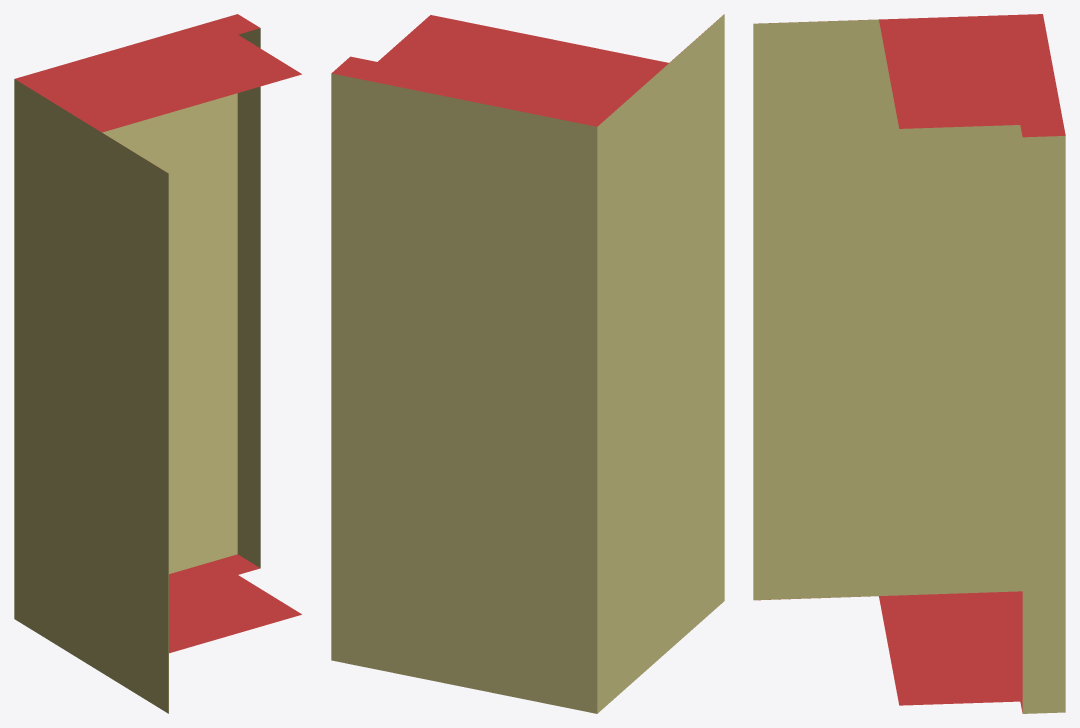
3 renders of one model, left to right at view 1: azimuth 30°, elevation 25°; view 2: azimuth 150°, elevation 25°; view 3: azimuth 270°, elevation 25°, orthographic. The views are drawn at different scales.
Size of the model in its own units: 5.05 by 5.41 by 11.01.
